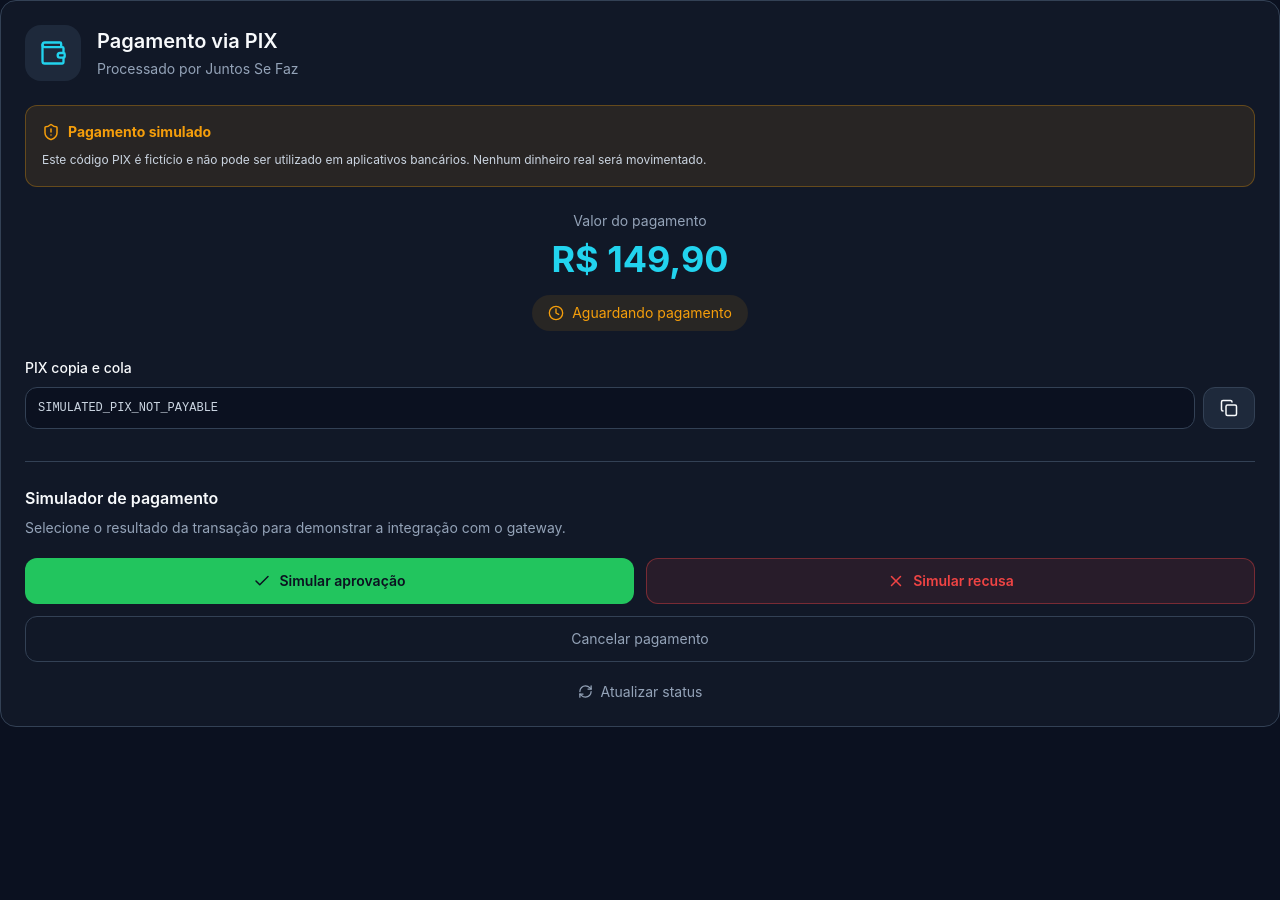
Test: PixPayment › should copy the simulated PIX code
This screenshot has width=1280, height=900.
Click the button named "Copiar código PIX" at (1229, 408), box [1203, 386, 1255, 428]
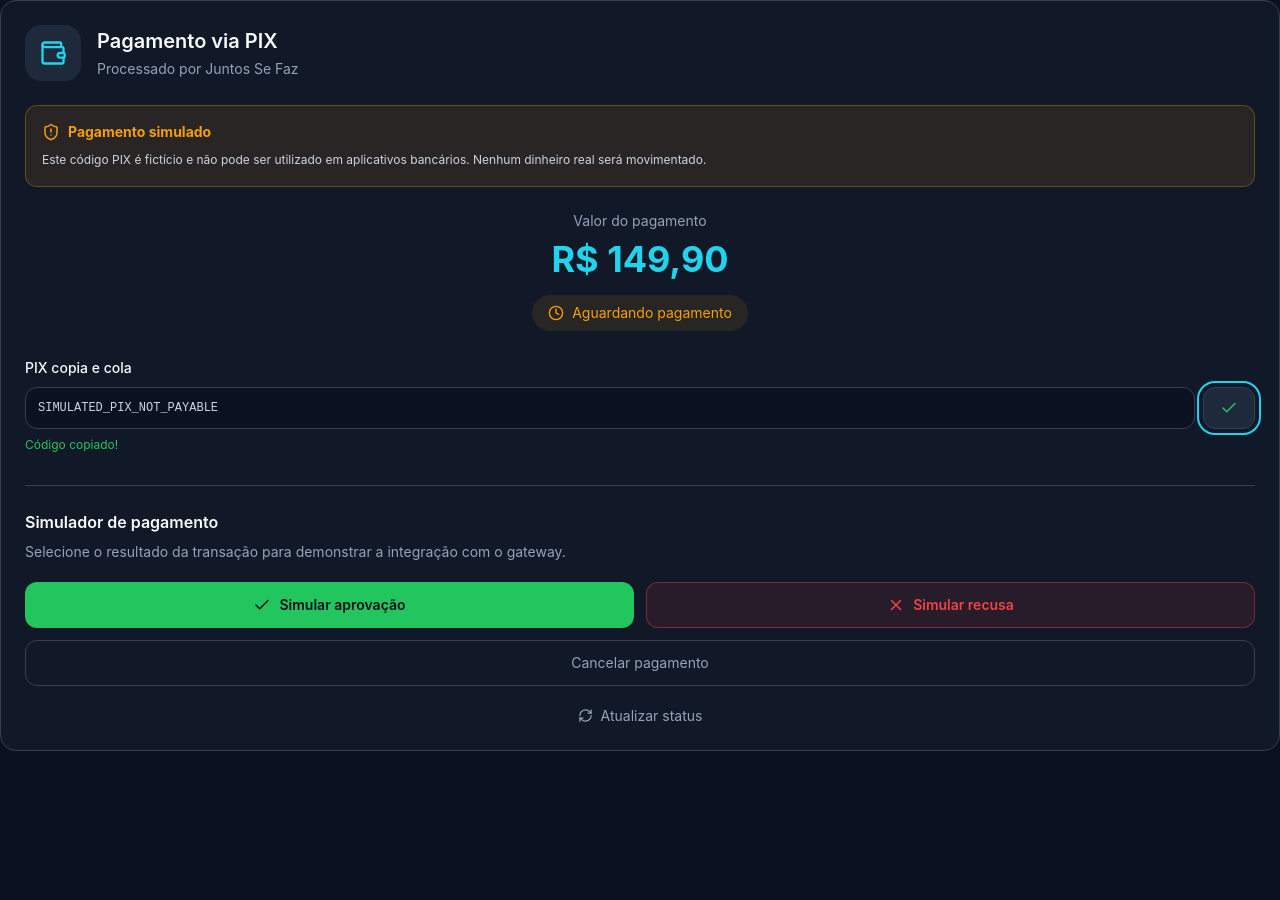
expect the text "Código copiado!" is shown: met, box [25, 436, 118, 452]
